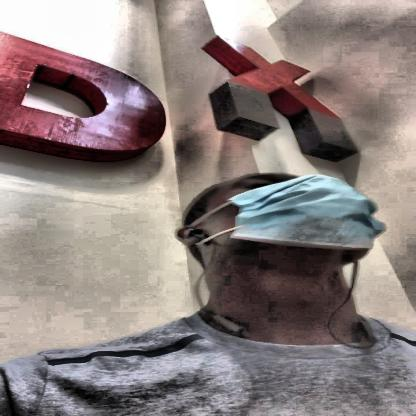not_wear: (172, 167, 387, 272)
